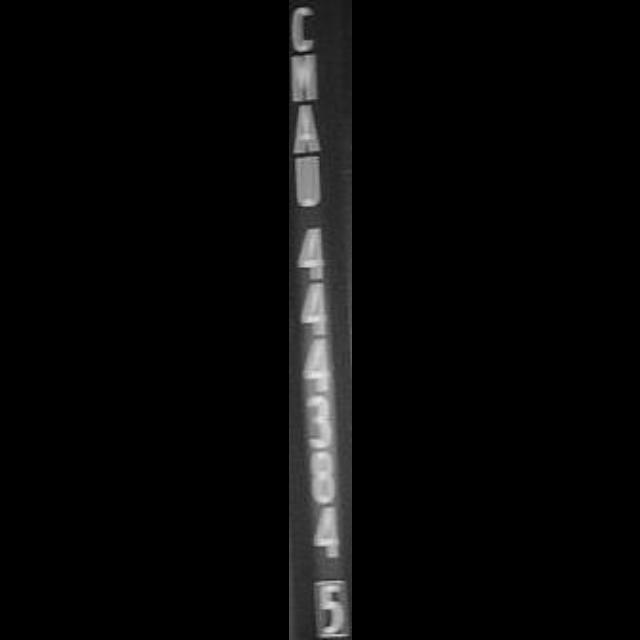3: (289, 396, 345, 454)
4: (288, 218, 336, 284), (288, 277, 338, 337), (292, 336, 338, 398), (304, 504, 348, 562)
5: (309, 574, 351, 640)
8: (292, 448, 351, 504)
a: (288, 107, 330, 155)
c: (288, 1, 326, 54)
m: (288, 51, 326, 108)
u: (288, 152, 334, 215)
